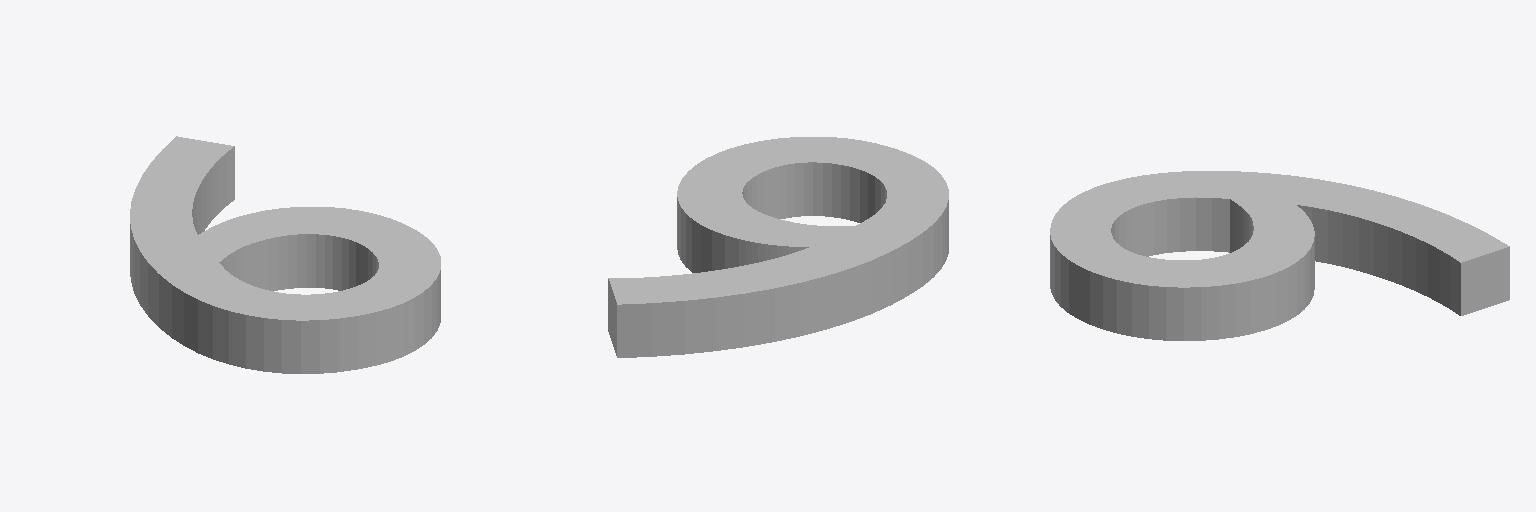
The model's file is six.obj.
3 renders of one model, left to right at view 1: azimuth 30°, elevation 25°; view 2: azimuth 150°, elevation 25°; view 3: azimuth 270°, elevation 25°, orthographic.
Parts seen in each view (by area): view 1: Text.006; view 2: Text.006; view 3: Text.006.
Part boxes in pixels (left/top/right/bottom): Text.006: left=130, top=136, right=440, bottom=373; Text.006: left=608, top=137, right=948, bottom=357; Text.006: left=1050, top=171, right=1509, bottom=340.
Bounding box in the file's own units: 0.421 × 0.09 × 0.7.